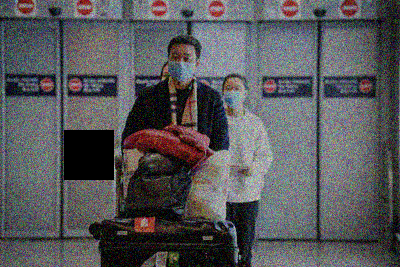with_mask: (167, 50, 196, 83), (223, 83, 245, 111)
